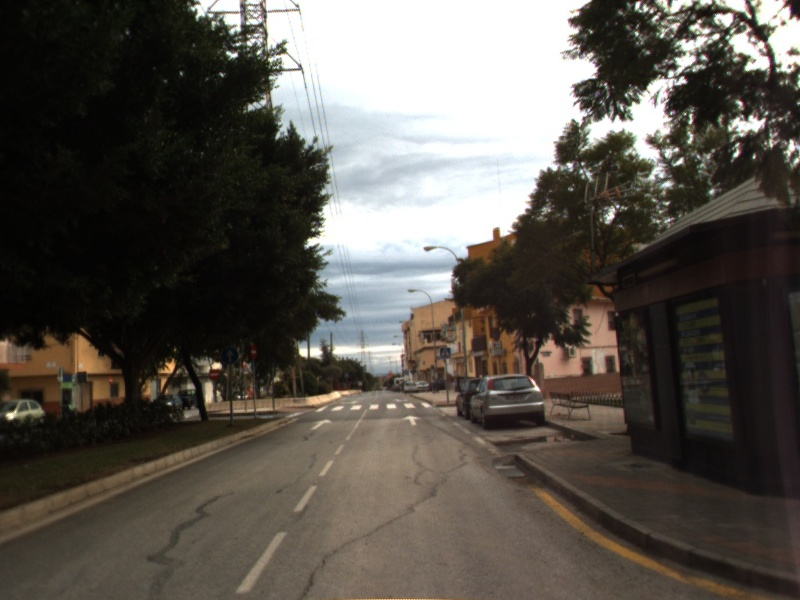STRAIGHT: (308, 417, 334, 432), (400, 413, 423, 427)
